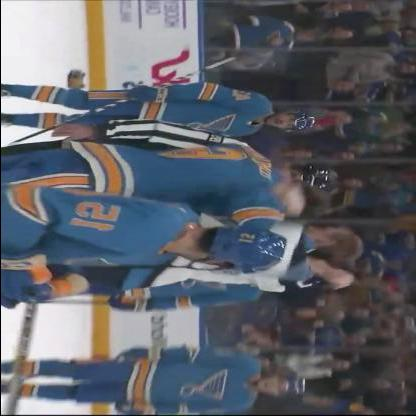non-Voilence: (0, 344, 302, 413), (0, 82, 316, 138)
voilence: (164, 148, 359, 286)
